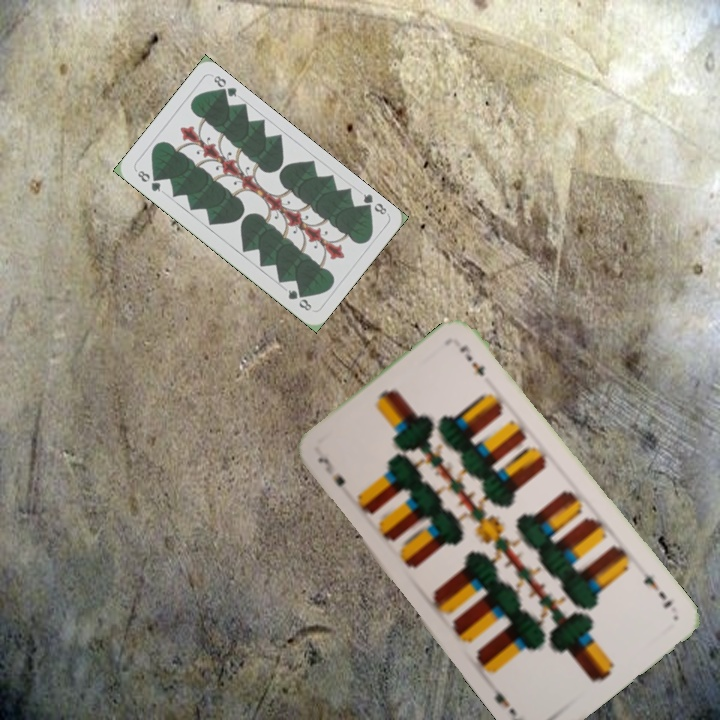E7: (639, 565, 675, 611), (314, 452, 348, 490)
G8: (357, 189, 389, 217), (132, 166, 163, 194)
